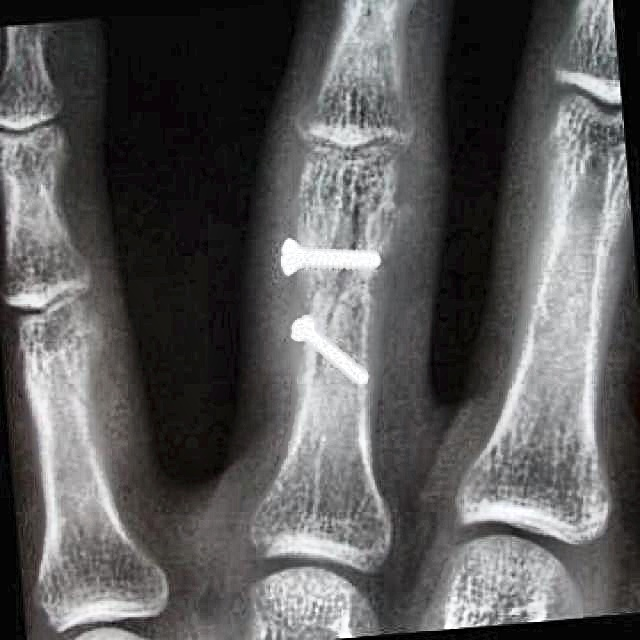Oblique Displaced: (285, 191, 394, 412)
